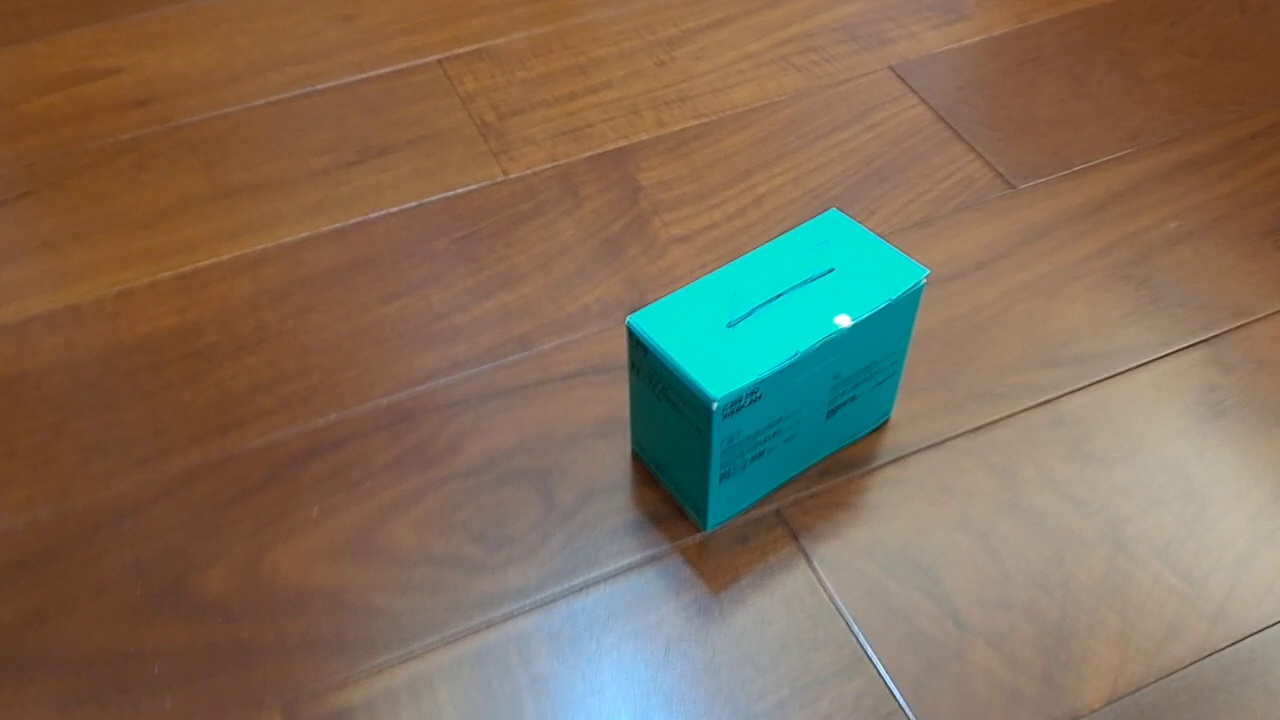webcam: (623, 205, 933, 537)
